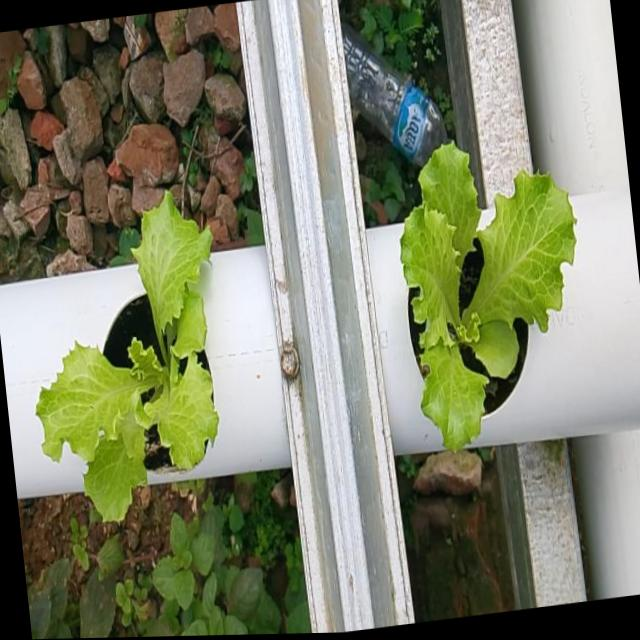Baby: (31, 194, 215, 526), (396, 144, 574, 457)
